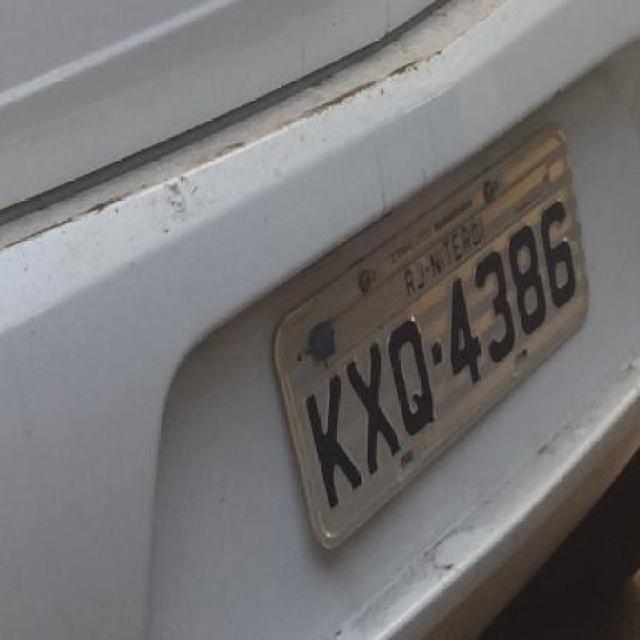old_plate: (268, 108, 594, 557)
